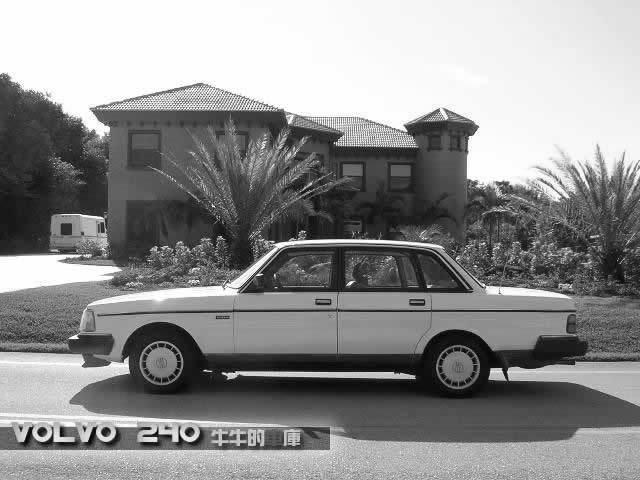car: (62, 235, 591, 404)
